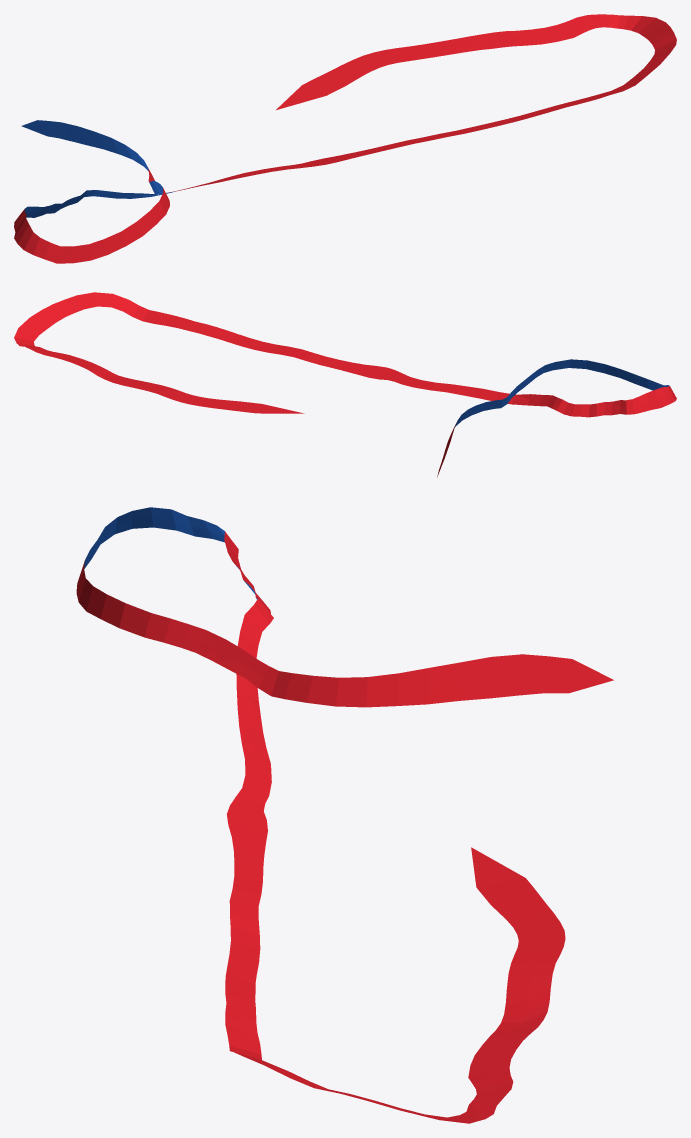
3 renders of one model, top to bottom at view 1: azimuth 30°, elevation 25°; view 2: azimuth 150°, elevation 25°; view 3: azimuth 270°, elevation 25°, orthographic. The views are drawn at different scales.
Parts seen in each view (by area): view 1: 297_back; view 2: 297_back; view 3: 297_back.
Part boxes in pixels (x1,y1,x2,y2): 297_back: (14, 14, 676, 263); 297_back: (14, 292, 676, 477); 297_back: (76, 507, 613, 1123).
Size of the model in its own units: 2.55 by 0.1497 by 1.02.
